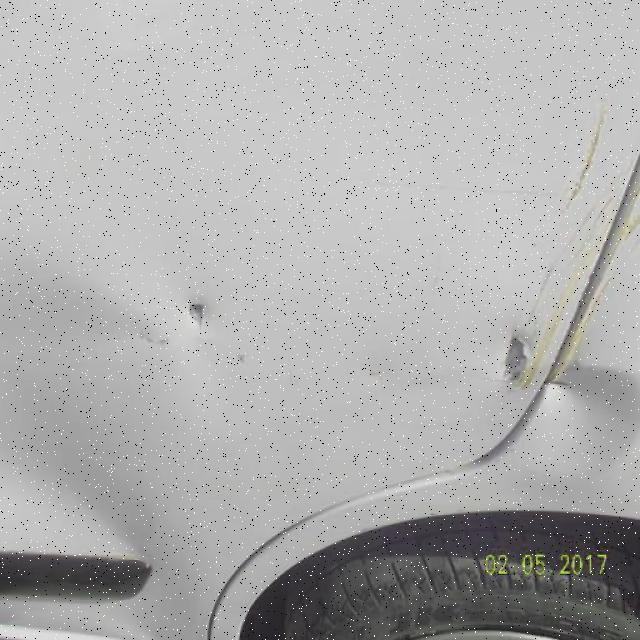car damage: (523, 156, 639, 400), (555, 94, 615, 216), (497, 332, 534, 396), (131, 320, 180, 364), (187, 297, 214, 336), (357, 363, 387, 387), (231, 350, 257, 373)
